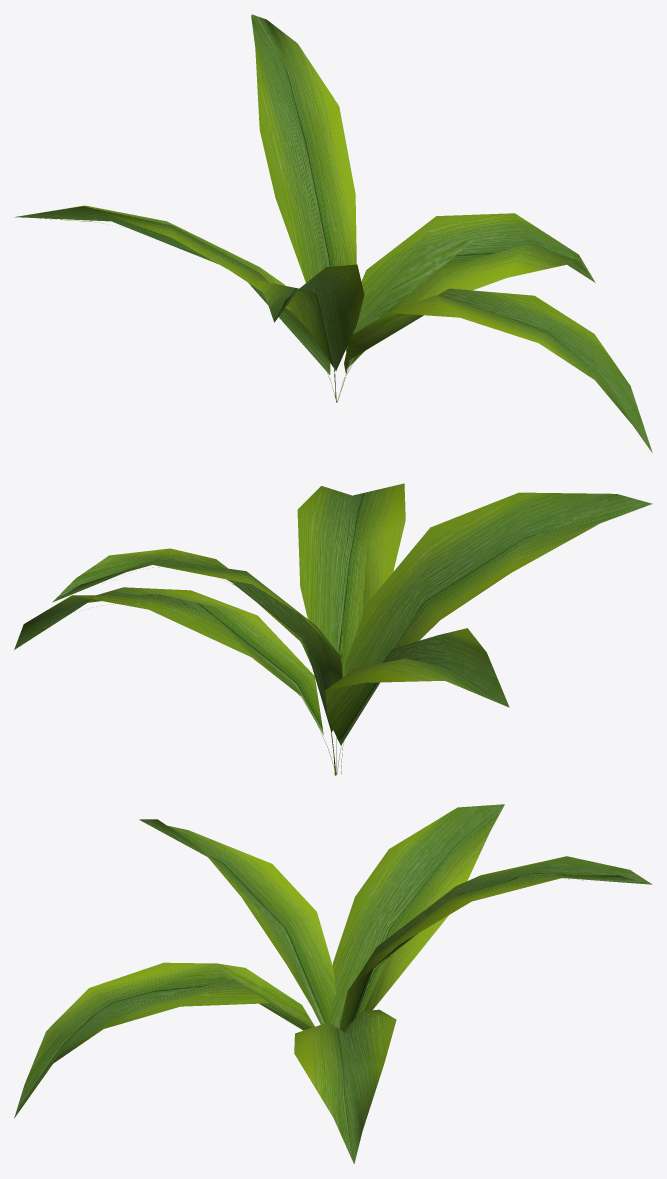
Rendered from leaf.glb.
3 views of the same model, one above another, from view 1: azimuth 30°, elevation 25°; view 2: azimuth 150°, elevation 25°; view 3: azimuth 270°, elevation 25° (orthographic). The views are drawn at different scales.
Visible parts, largest first — view 1: Green Grass Leafs; view 2: Green Grass Leafs; view 3: Green Grass Leafs.
Part boxes in pixels (left/top/right/bottom): Green Grass Leafs: left=14, top=14, right=652, bottom=452; Green Grass Leafs: left=14, top=483, right=652, bottom=775; Green Grass Leafs: left=14, top=804, right=652, bottom=1163.
Size of the model in its own units: 1.68 by 0.8239 by 1.93.
1 material, 1 textured.
